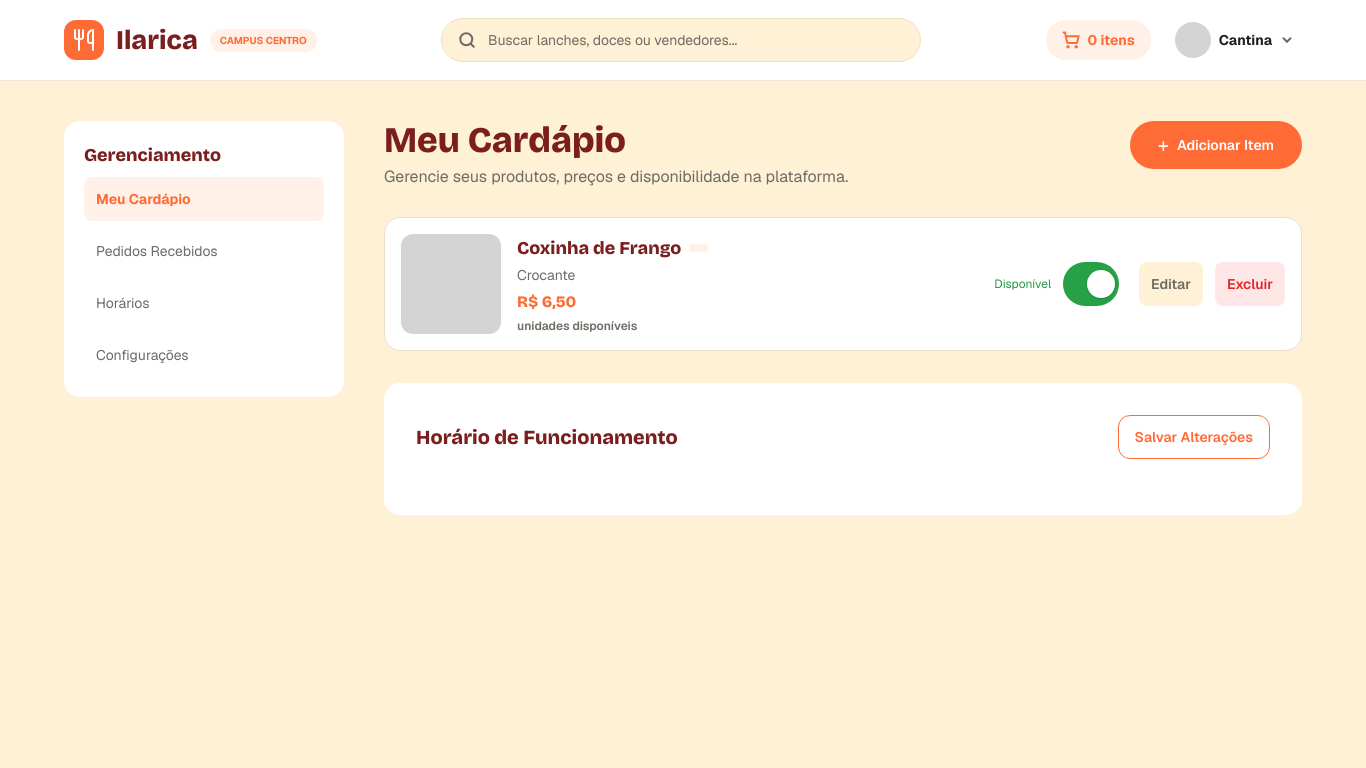
Test: CanteenDashboardPage › requires confirmation before deleting a product
Expected: the heading "Coxinha de Frango" is shown, [517,234,681,262]
Click the button "Excluir".
click(1250, 284)  # box [1215,262,1285,306]
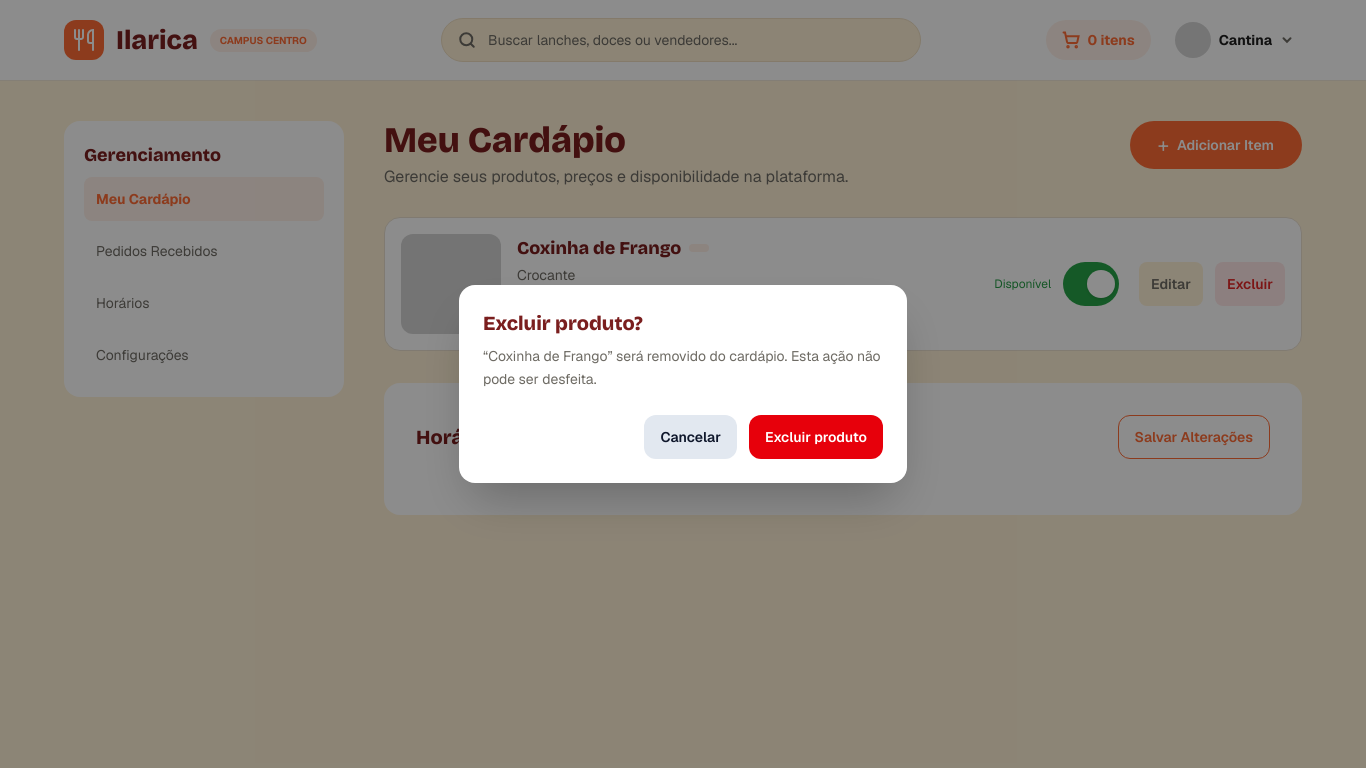
Expected: the dialog is shown, [459,285,907,483]
Expected: the text "não pode ser desfeita" is shown, [483,347,881,388]
Click the button "Excluir produto".
click(816, 437)  # box [749,415,883,459]
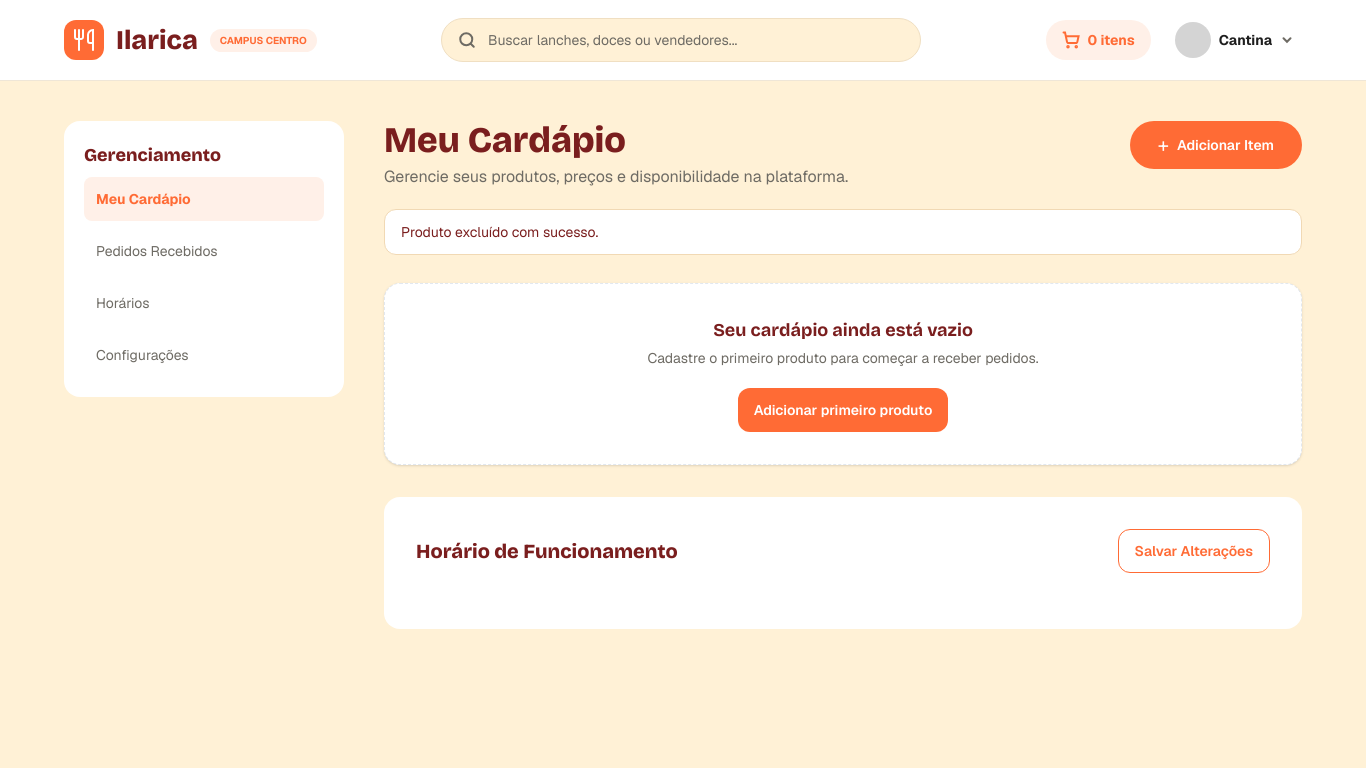
Expected: the heading "Coxinha de Frango" is gone
Expected: the message shows "excluído com sucesso", [401,223,598,241]
